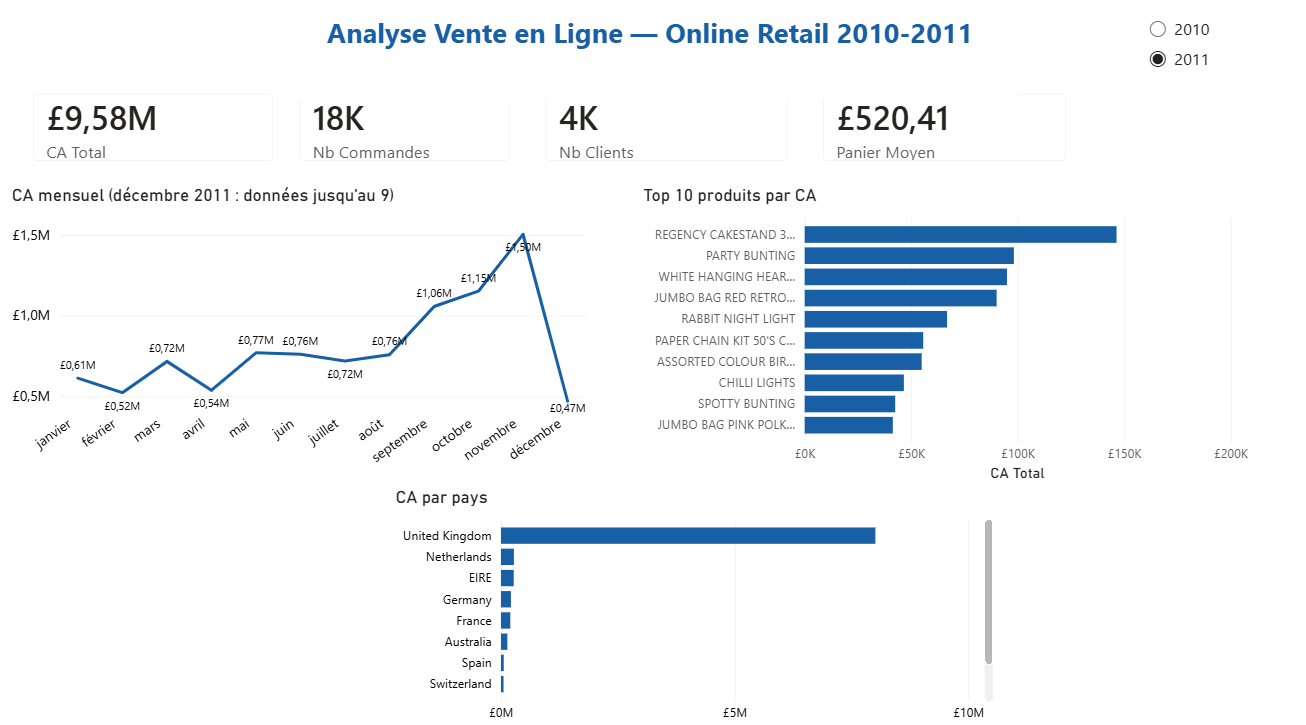

What the dashboard file says about the page in this screenshot:
{"tool":"powerbi","page":{"name":"Vue Générale","canvas":[1280,720],"ordinal":0},"visuals":[{"type":"cardVisual","fields":{"Data":["Online_Retail.CA Total"]},"box":[18.3,79.5,269,100],"z":0},{"type":"cardVisual","fields":{"Data":["Online_Retail.Nb Commandes"]},"box":[278.8,79.5,240.9,100],"z":1000},{"type":"cardVisual","fields":{"Data":["Online_Retail.Nb Clients"]},"box":[519.7,79.5,271.5,100],"z":2000},{"type":"cardVisual","fields":{"Data":["Online_Retail.Panier Moyen"]},"box":[791.2,79.5,272.7,100],"z":3000},{"type":"clusteredBarChart","title":"Top 10 produits par CA","fields":{"Category":["Online_Retail.Description"],"Y":["Online_Retail.CA Total"]},"box":[627.3,185.9,601.6,294.7],"z":4000},{"type":"clusteredBarChart","title":"CA par pays","fields":{"Category":["Online_Retail.Country"],"Y":["Online_Retail.CA Total"]},"box":[385.2,480.6,594.3,239.7],"z":5000},{"type":"lineChart","title":"CA mensuel (décembre 2011 : données jusqu''au 9)","fields":{"Y":["Online_Retail.CA Total"],"Category":["Online_Retail.Mois_Nom_Vente"]},"box":[9.8,185.9,571.1,294.7],"z":6000},{"type":"slicer","fields":{"Values":["Online_Retail.Annee_Vente","Online_Retail.Annee_Vente"]},"box":[1090.9,13.7,189.4,87.8],"z":7000},{"type":"textbox","box":[278.8,13.5,720.2,88],"z":8000}]}

Visuals, with their boxes in screenshot pixels (x1, y1, x2, y2), scaled from the page's 1280x720 canvas onto the 1306x725 screenshot:
cardVisual - Online_Retail.CA Total: [19, 80, 293, 181]
cardVisual - Online_Retail.Nb Commandes: [284, 80, 530, 181]
cardVisual - Online_Retail.Nb Clients: [530, 80, 807, 181]
cardVisual - Online_Retail.Panier Moyen: [807, 80, 1086, 181]
"Top 10 produits par CA" clusteredBarChart: [640, 187, 1254, 484]
"CA par pays" clusteredBarChart: [393, 484, 999, 724]
"CA mensuel (décembre 2011 : données jusqu''au 9)" lineChart: [10, 187, 593, 484]
slicer - Online_Retail.Annee_Vente x Online_Retail.Annee_Vente: [1113, 14, 1305, 102]
textbox: [284, 14, 1019, 102]
